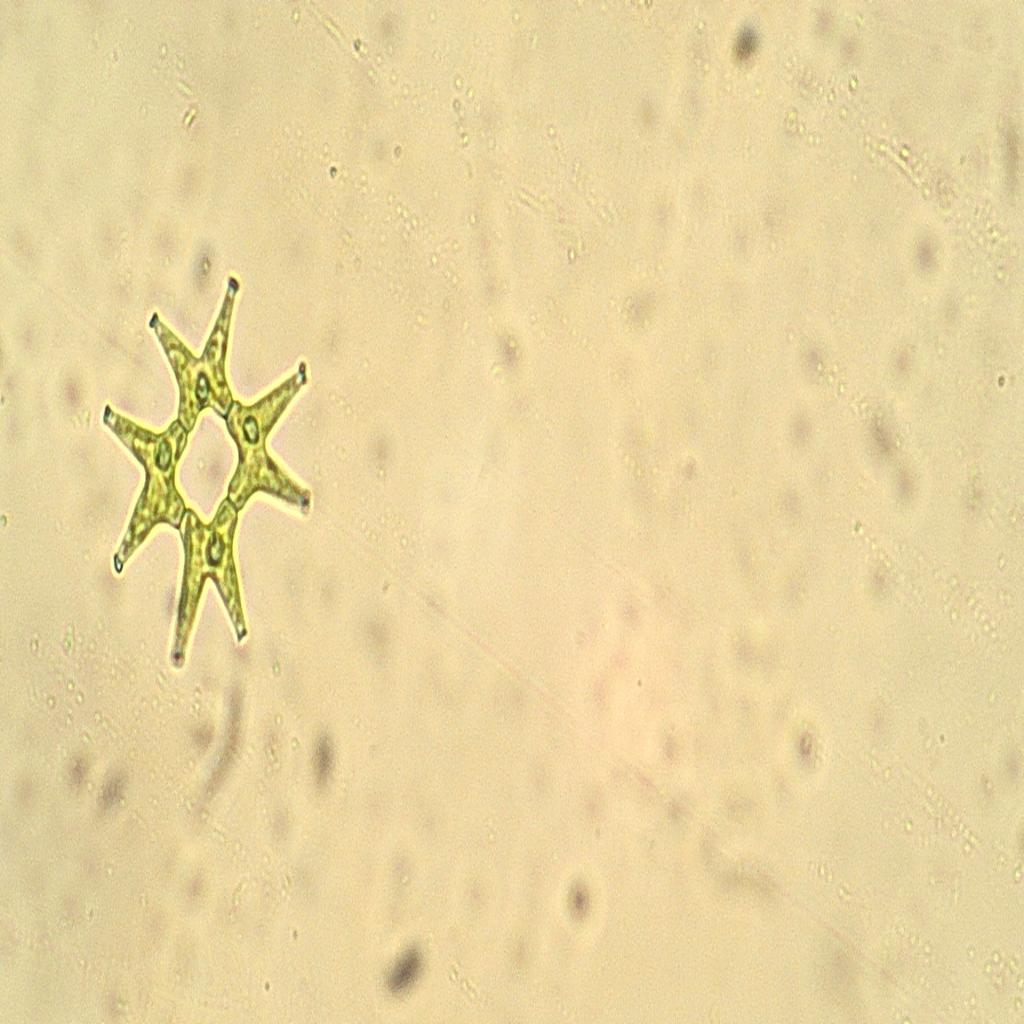Pediastrum_10: (93, 254, 329, 693)
